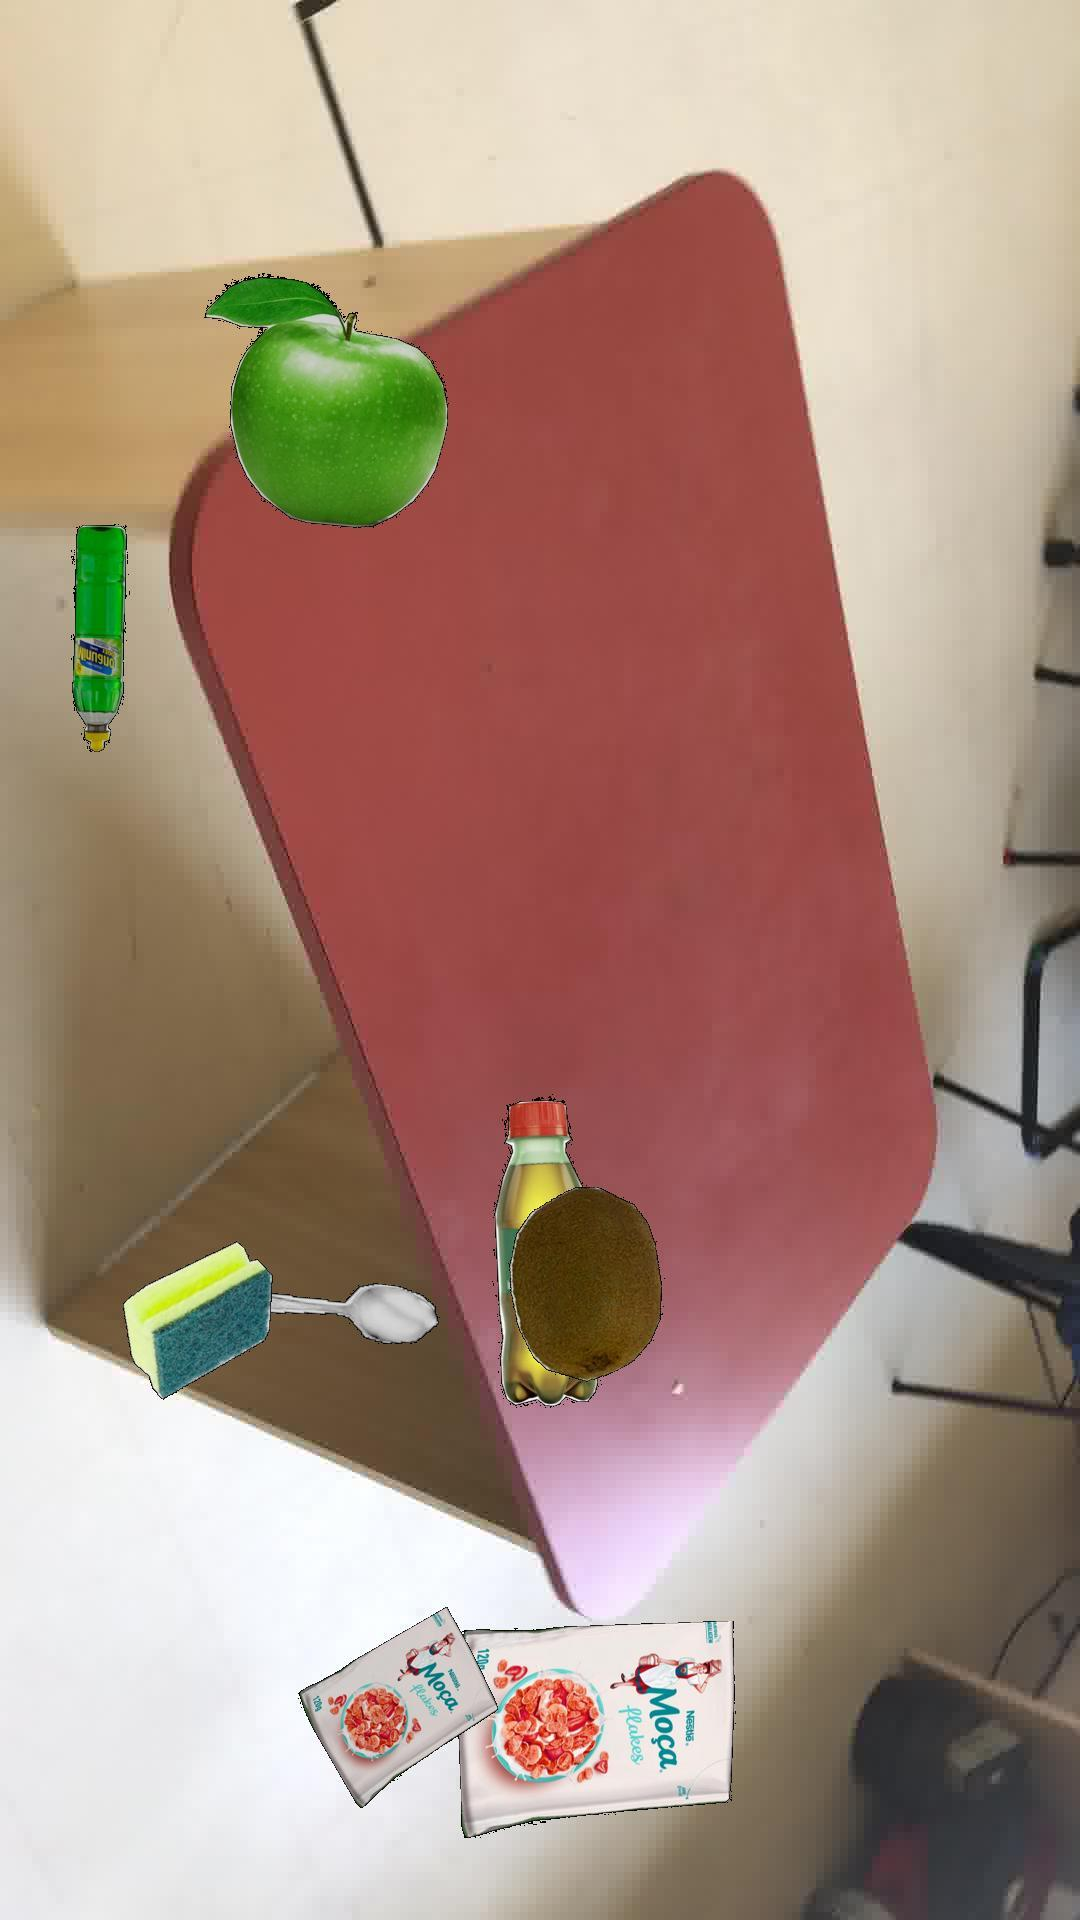cleaner: (71, 522, 125, 750)
corn flakes: (456, 1619, 733, 1837), (297, 1606, 497, 1807)
green apple: (203, 273, 447, 526)
guarana: (492, 1095, 596, 1407)
kiwi: (508, 1185, 662, 1381)
sponge: (121, 1240, 272, 1399)
spoon: (270, 1282, 438, 1342)
